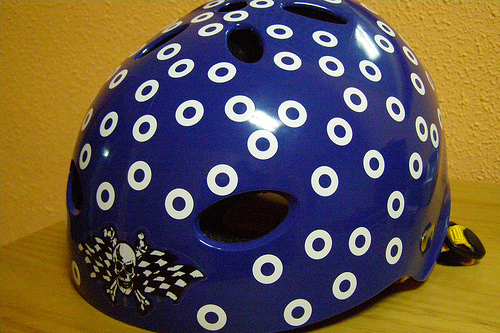helmet: (66, 7, 448, 315)
